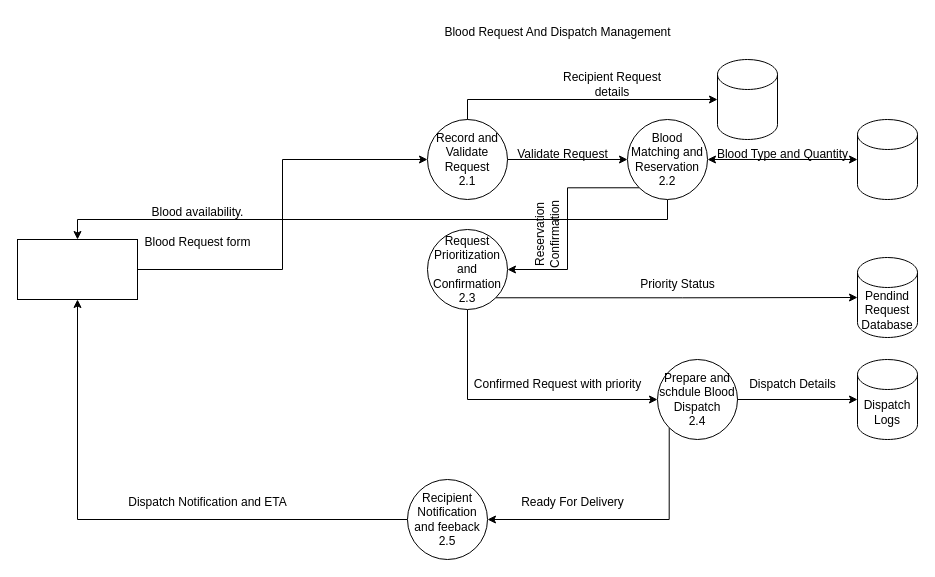
The diagram is 935 pixels wide and 577 high, and some of its shapes have lost their labels. The shapes that lost their labels are listed below. From the top down, each one's centre as x and y in pixels, then its label:
point (747, 99): Recipient Request Logs
point (887, 159): Blood Inventory Database
point (77, 269): Recipient
